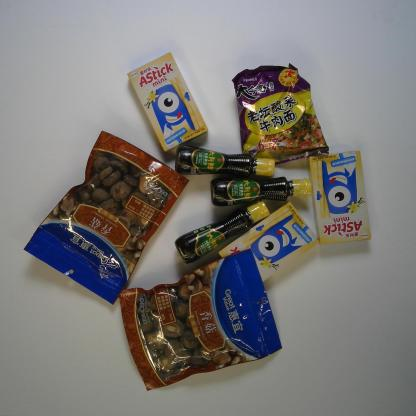Dessert: (127, 51, 208, 155), (218, 201, 321, 282), (307, 150, 372, 245)
Dried Food: (21, 128, 191, 306), (118, 249, 283, 392)
Instant Noodles: (232, 62, 330, 166)
Seasoner: (174, 200, 270, 264), (174, 145, 276, 178), (209, 177, 313, 207)
